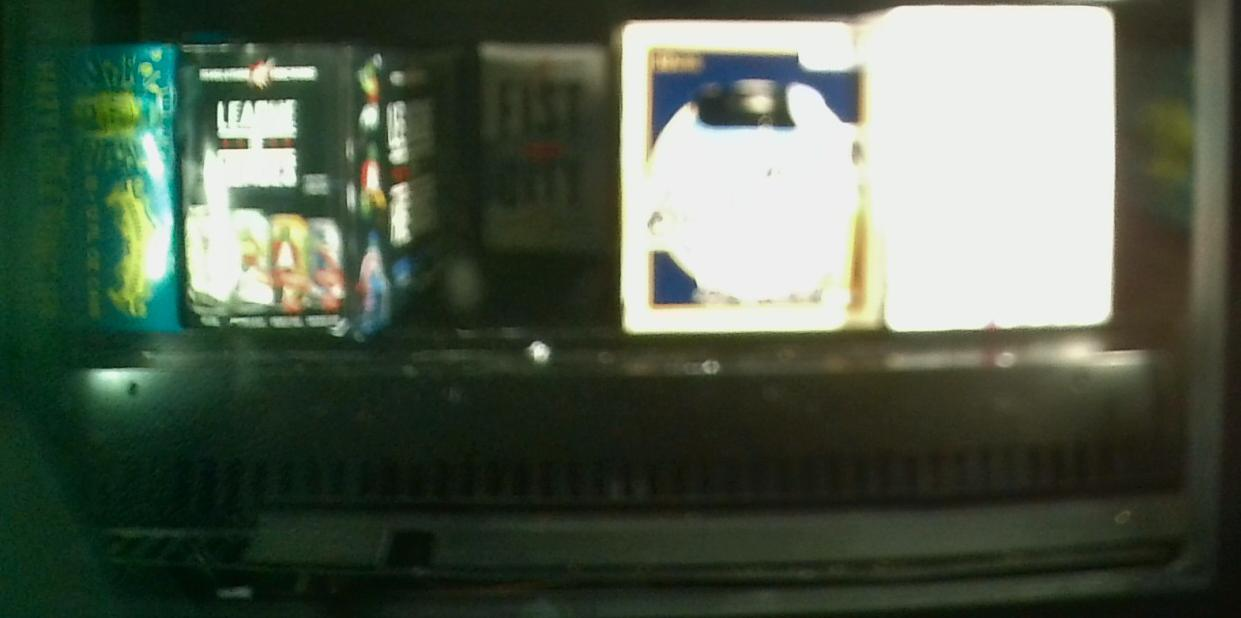bottle: (177, 44, 465, 336), (618, 19, 869, 335), (875, 10, 1115, 326), (1, 39, 181, 341), (476, 46, 607, 255)
